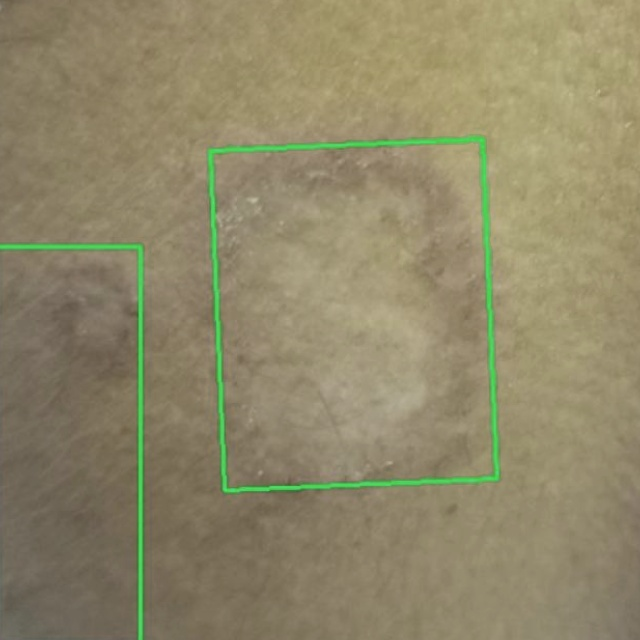Tinea Corporis: (209, 139, 495, 490), (0, 246, 140, 639)
